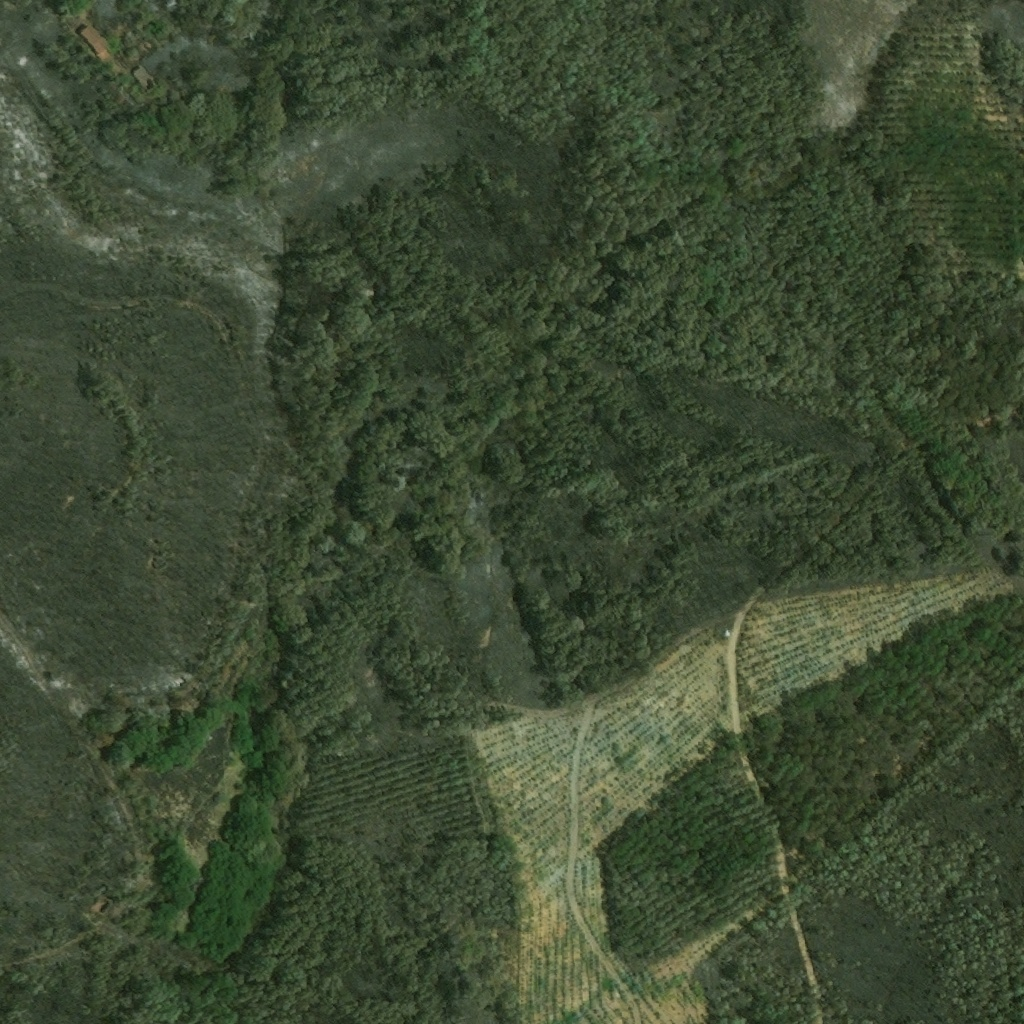0 no-damage: (80, 24, 111, 53)
2 major-damage: (133, 65, 159, 93)
